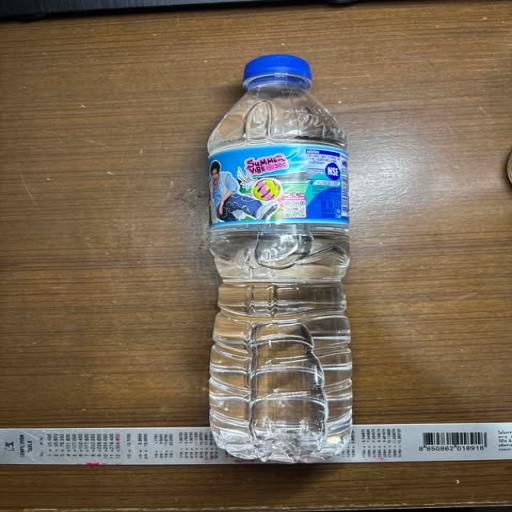bottle: (186, 49, 376, 469)
